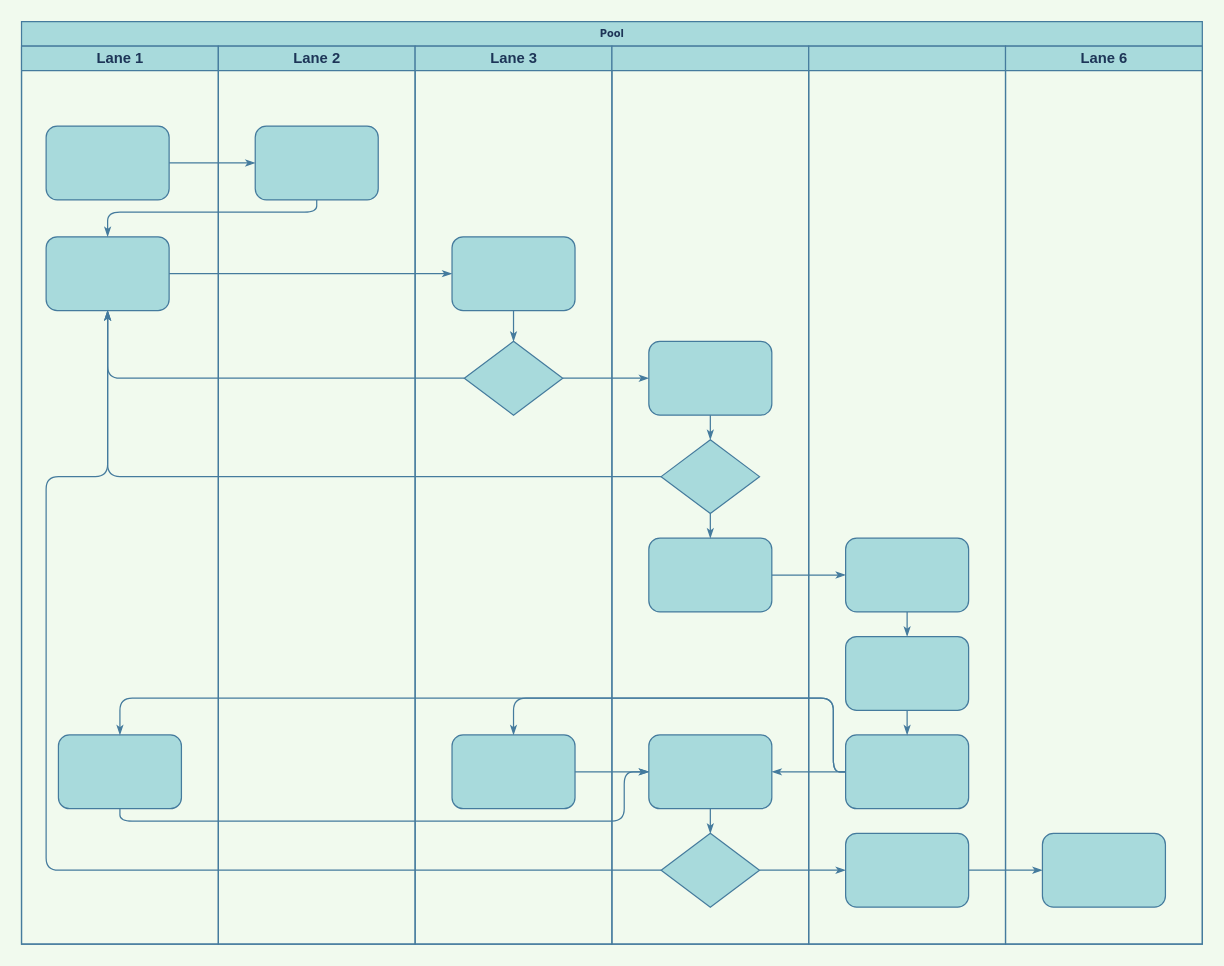
The diagram is 1224 pixels wide and 966 high, and some of its shapes have lost their labels. The box of each missing label's shape, as (x1, y1, x2, y2) in pixels:
Lane 4: (611, 45, 809, 944)
Lane 5: (807, 45, 1006, 944)
